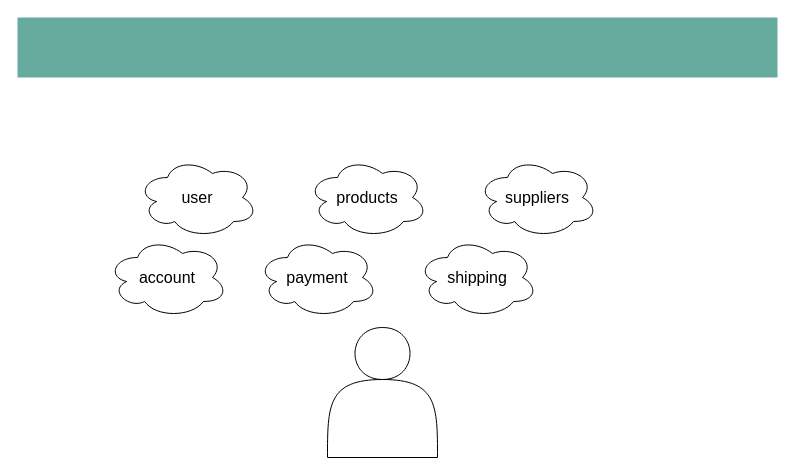
The diagram is 794 pixels wide and 475 high, and some of its shapes have lost their labels. The shapes that lost their labels are listed below. From the top down, each one's centre as x and y in pixels, then its label:
At [397,47]: "Step 1: Requirements Engineering".
At [382,392]: "Famazon".
